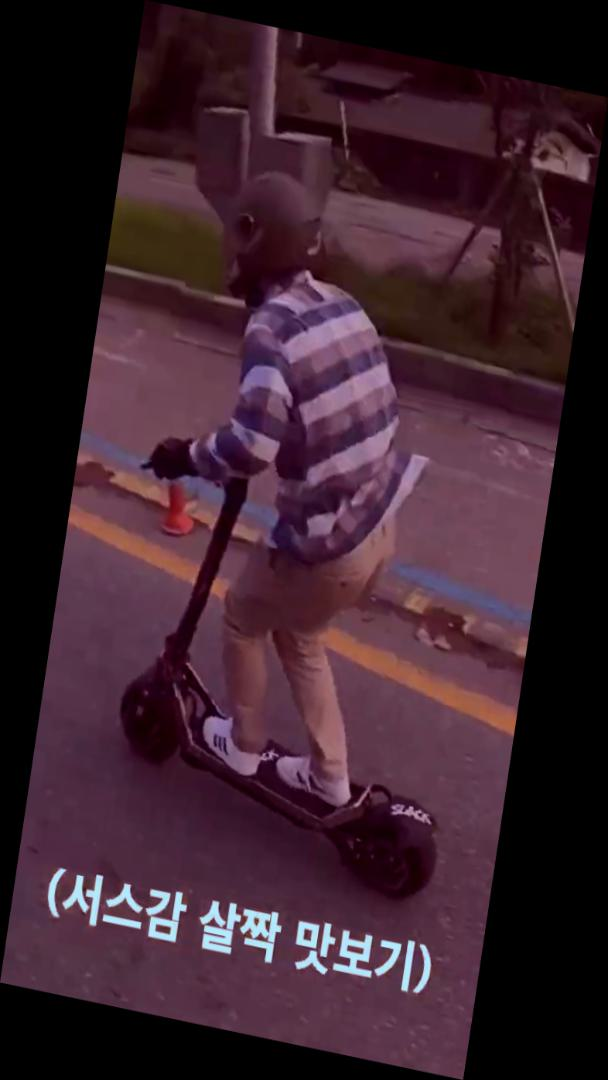helmet: (84, 150, 535, 907)
